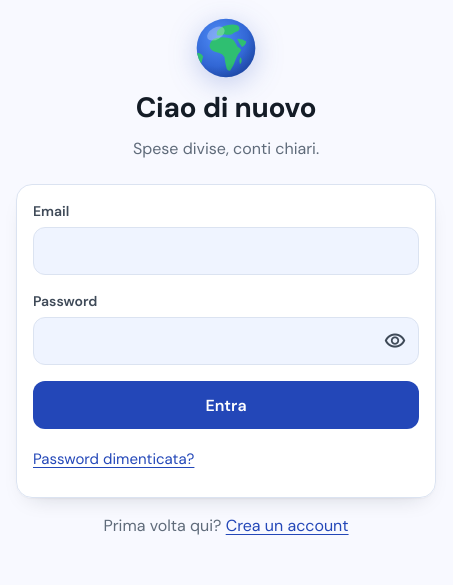
Test case: LoginPage › offline il bottone resta attivo e all'invio dice che serve la rete per entrare
Type "vale@example.com" into the field labelled "Email". click: (226, 251)
box: [33,227,419,275]
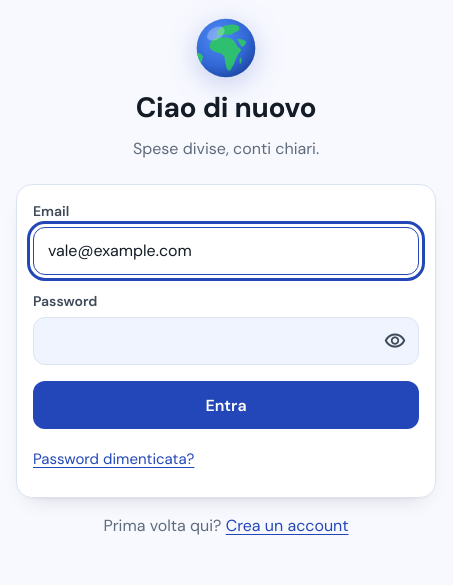
Type "password1" into the password field labelled "Password". click: (226, 341)
box: [33,317,419,365]
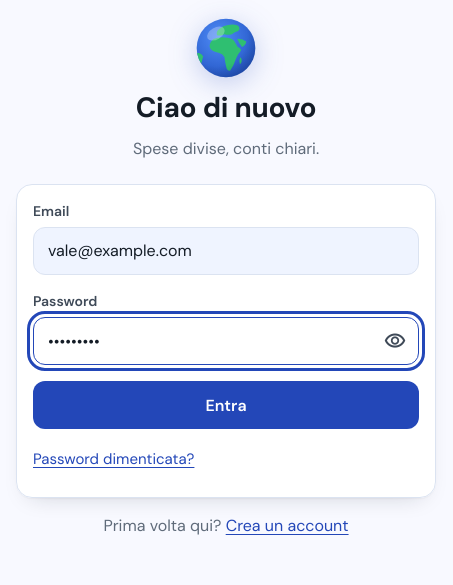
Click the button "Entra". click: (226, 405)
box: [33,381,419,429]
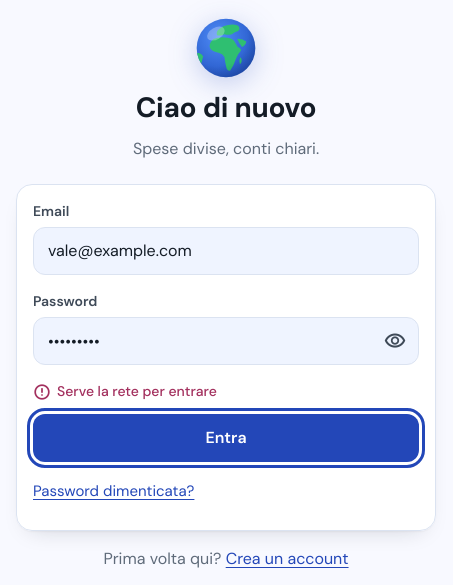
Result: the message reads "Serve la rete per entrare" at [57,382,217,400]
